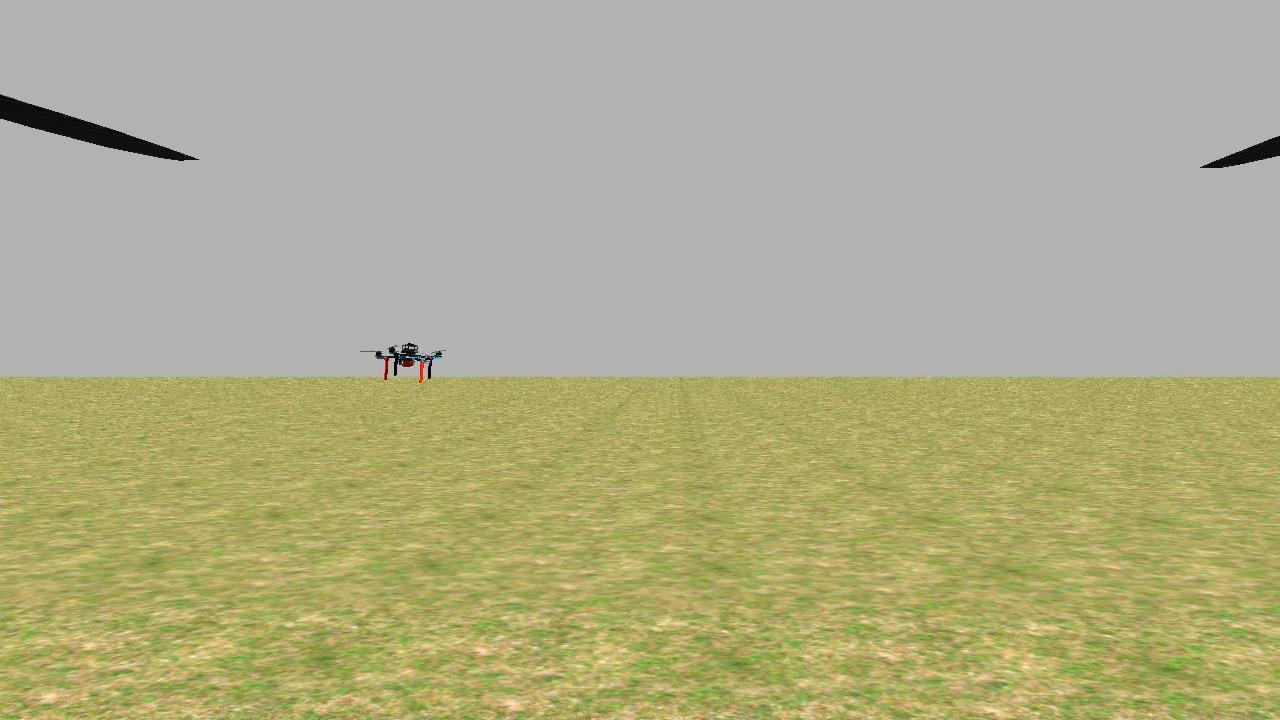UAV: (373, 336, 450, 384)
